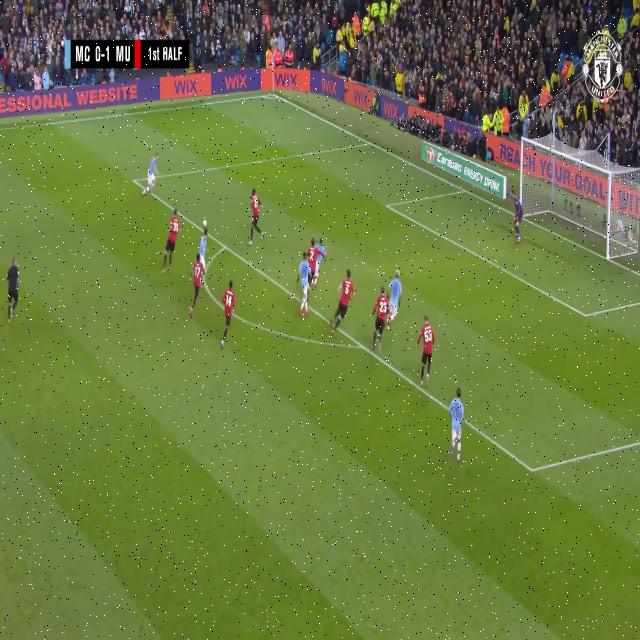Ball: (202, 215, 209, 228)
GoalKeeper: (511, 192, 525, 245)
TEAM 1: (329, 271, 355, 335), (371, 290, 391, 352), (418, 319, 436, 386), (162, 212, 180, 276), (188, 253, 206, 316), (219, 282, 235, 348), (248, 191, 264, 249), (308, 236, 316, 282)
TEAM 2: (448, 388, 465, 460), (296, 256, 316, 316), (145, 152, 163, 200), (389, 272, 404, 321), (198, 223, 209, 276), (318, 235, 324, 284)
